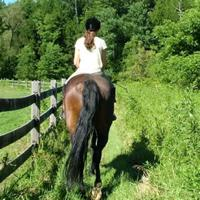person: (60, 18, 116, 122)
